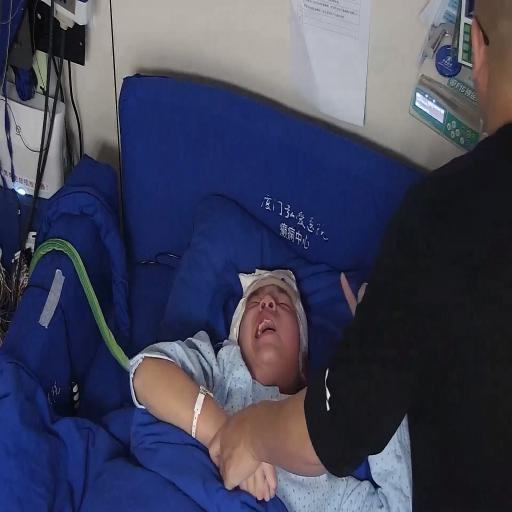Seizure: (238, 270, 309, 380), (241, 275, 312, 385)
